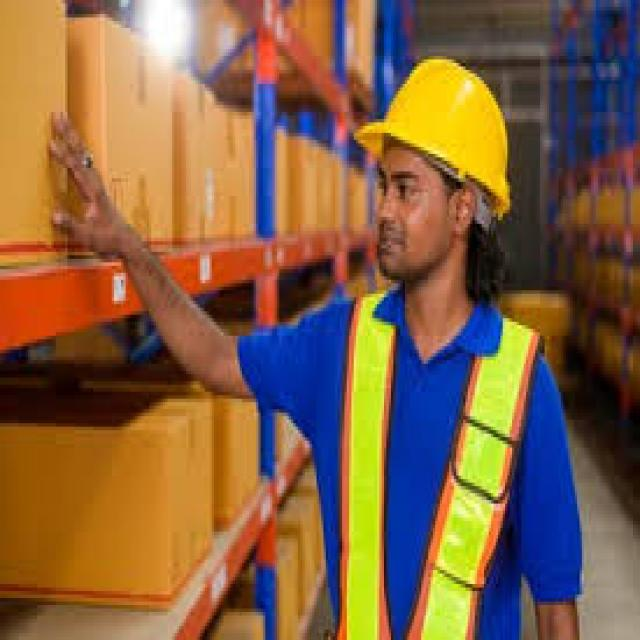Reflective-Jacket: (316, 284, 552, 636)
Safety-Helmet: (354, 52, 516, 220)
